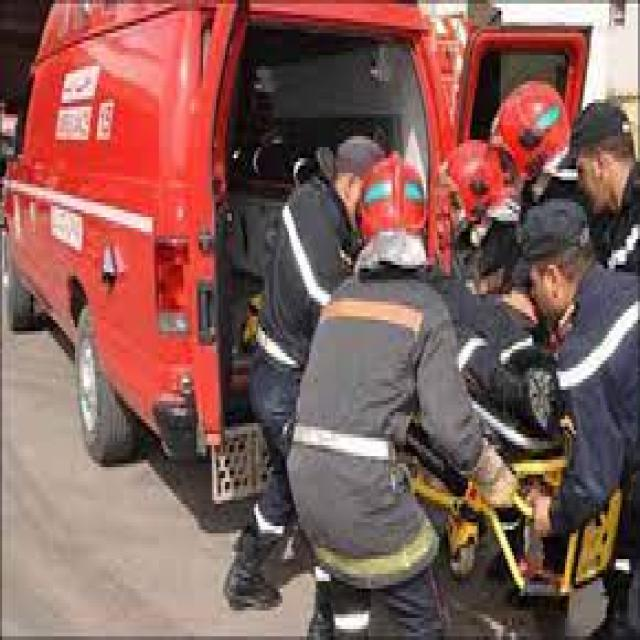ambulance: (9, 6, 437, 485)
